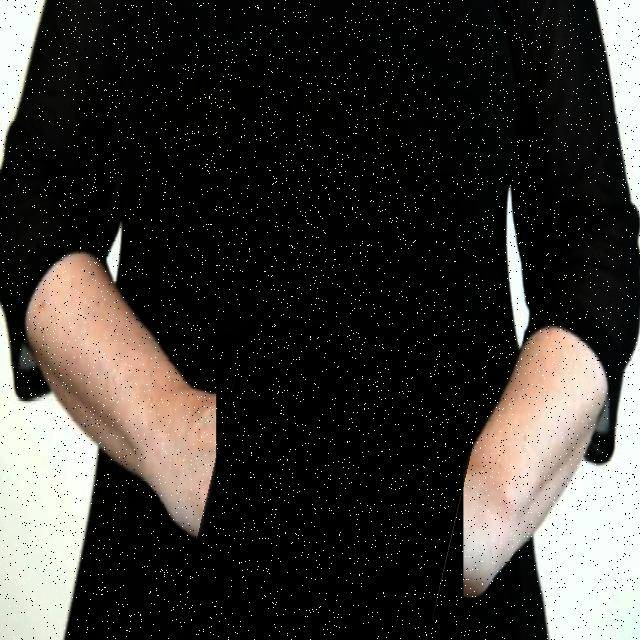X: (204, 323, 478, 619)
